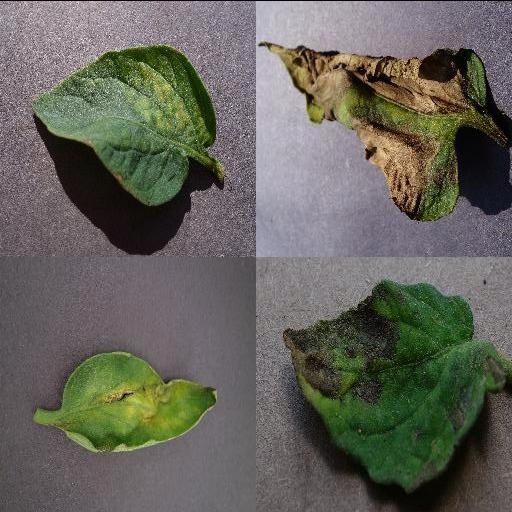Early Blight: (280, 278, 512, 489)
Late Blight: (256, 40, 488, 220), (58, 348, 220, 454)
Spider Mites: (28, 46, 216, 205)
